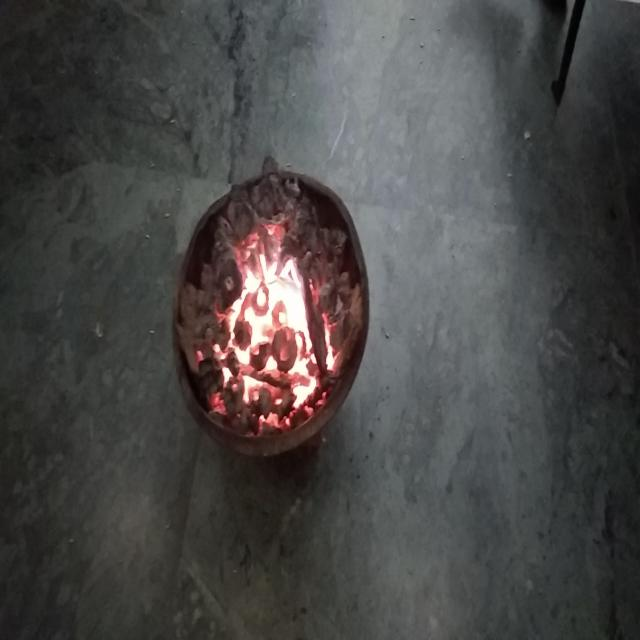fire: (214, 264, 320, 368)
